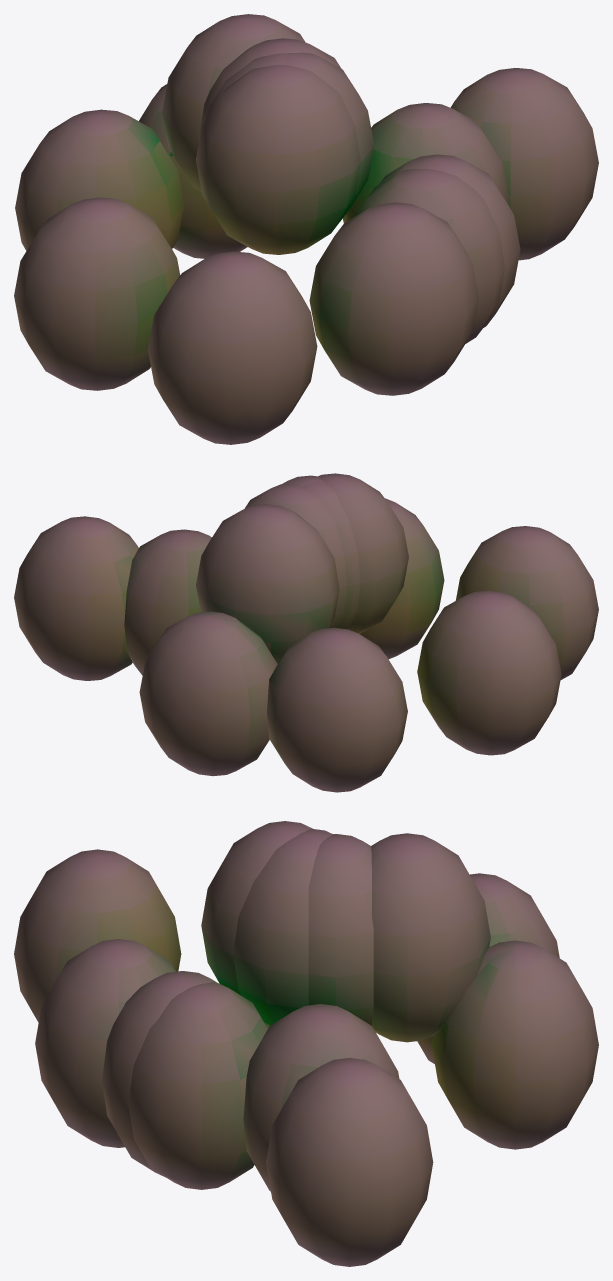
The model's file is egg_clutch.glb.
The picture shows the model from 3 angles, top to bottom: view 1: azimuth 30°, elevation 25°; view 2: azimuth 150°, elevation 25°; view 3: azimuth 270°, elevation 25°; orthographic projection. The views are drawn at different scales.
Visible parts, largest first — view 1: clutch; view 2: clutch; view 3: clutch.
Boxes of the visible parts, x1,y1,x2,y2 form: clutch: (14, 14, 598, 444); clutch: (14, 473, 598, 792); clutch: (14, 821, 598, 1266).
Size of the model in its own units: 0.6718 by 0.2955 by 0.5349.
